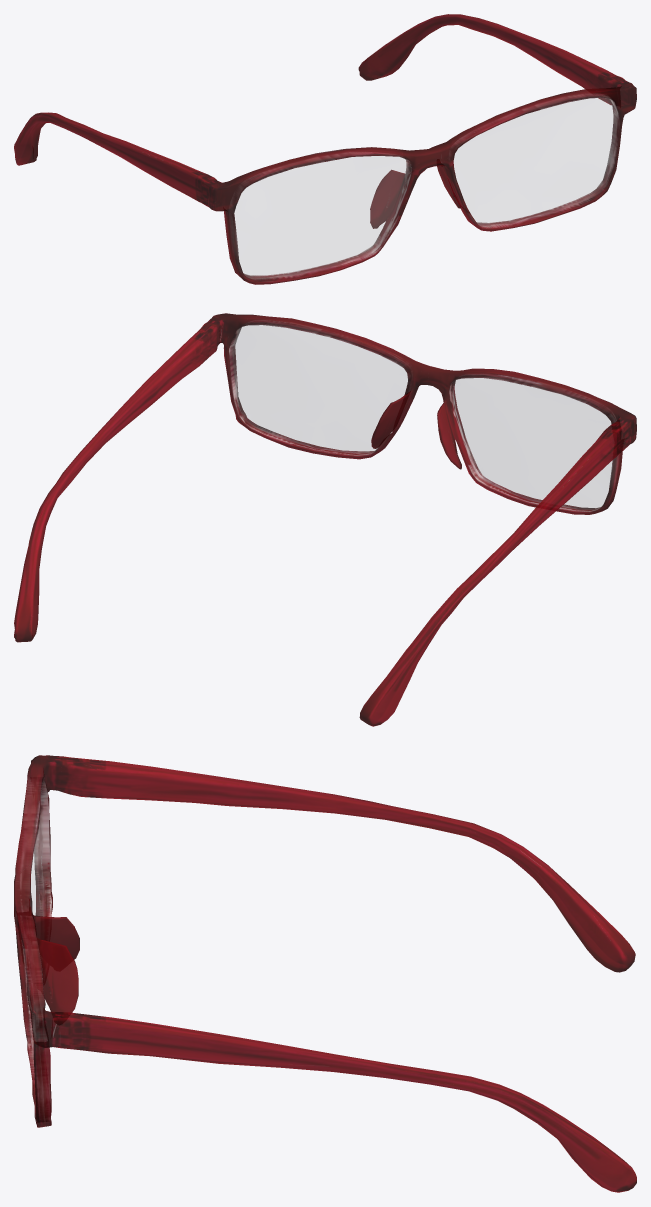
File: frame-008-burgundy-rectangle.glb
3 renders of one model, top to bottom at view 1: azimuth 30°, elevation 25°; view 2: azimuth 150°, elevation 25°; view 3: azimuth 270°, elevation 25°, orthographic. The views are drawn at different scales.
Parts seen in each view (by area): view 1: lenses, frame_front, temple_right, temple_left; view 2: lenses, frame_front, temple_right, temple_left; view 3: temple_left, temple_right, frame_front, lenses.
Boxes of the visible parts, x1,y1,x2,y2 form: lenses: [235, 98, 617, 278]; frame_front: [197, 77, 636, 284]; temple_right: [358, 14, 623, 104]; temple_left: [14, 112, 211, 201]; lenses: [234, 325, 611, 509]; frame_front: [203, 313, 636, 514]; temple_right: [14, 324, 216, 642]; temple_left: [359, 429, 619, 726]; temple_left: [81, 758, 635, 972]; temple_right: [69, 1012, 636, 1192]; frame_front: [14, 755, 83, 1127]; lenses: [26, 818, 43, 1060].
Size of the model in its own units: 1 by 0.3652 by 0.998.
2 materials, 1 textured.
